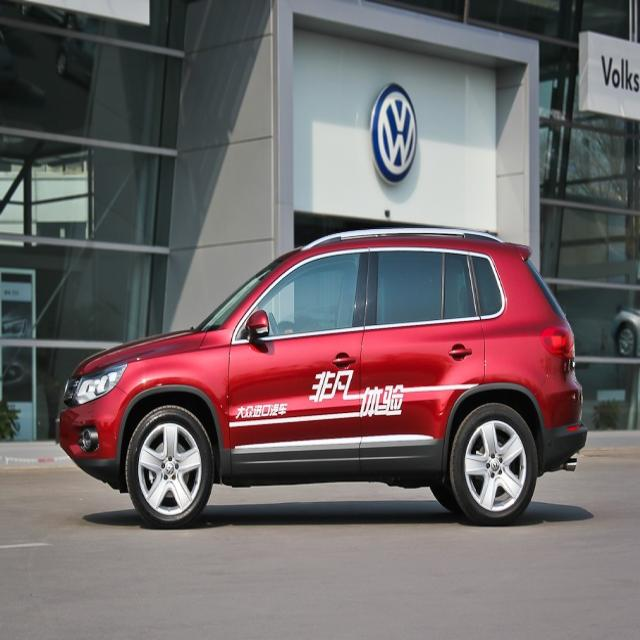back_left_side_light: (539, 321, 578, 360)
door: (362, 243, 490, 451)
front_bumper: (56, 383, 130, 491)
front_left_side_door: (224, 238, 372, 472)
front_left_side_light: (70, 359, 130, 410)
front_left_side_mirror: (247, 306, 271, 344)
rear_bumper: (536, 365, 589, 466)
wheel: (449, 403, 536, 526), (126, 405, 213, 528)
